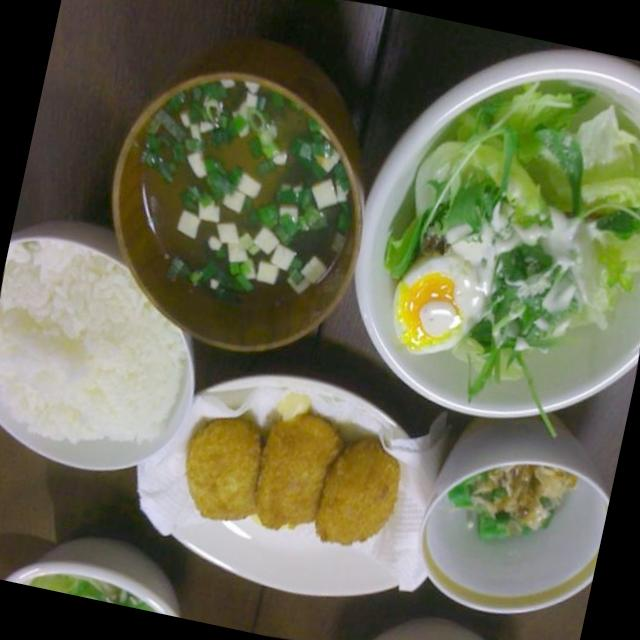Rice: (0, 225, 198, 481)
